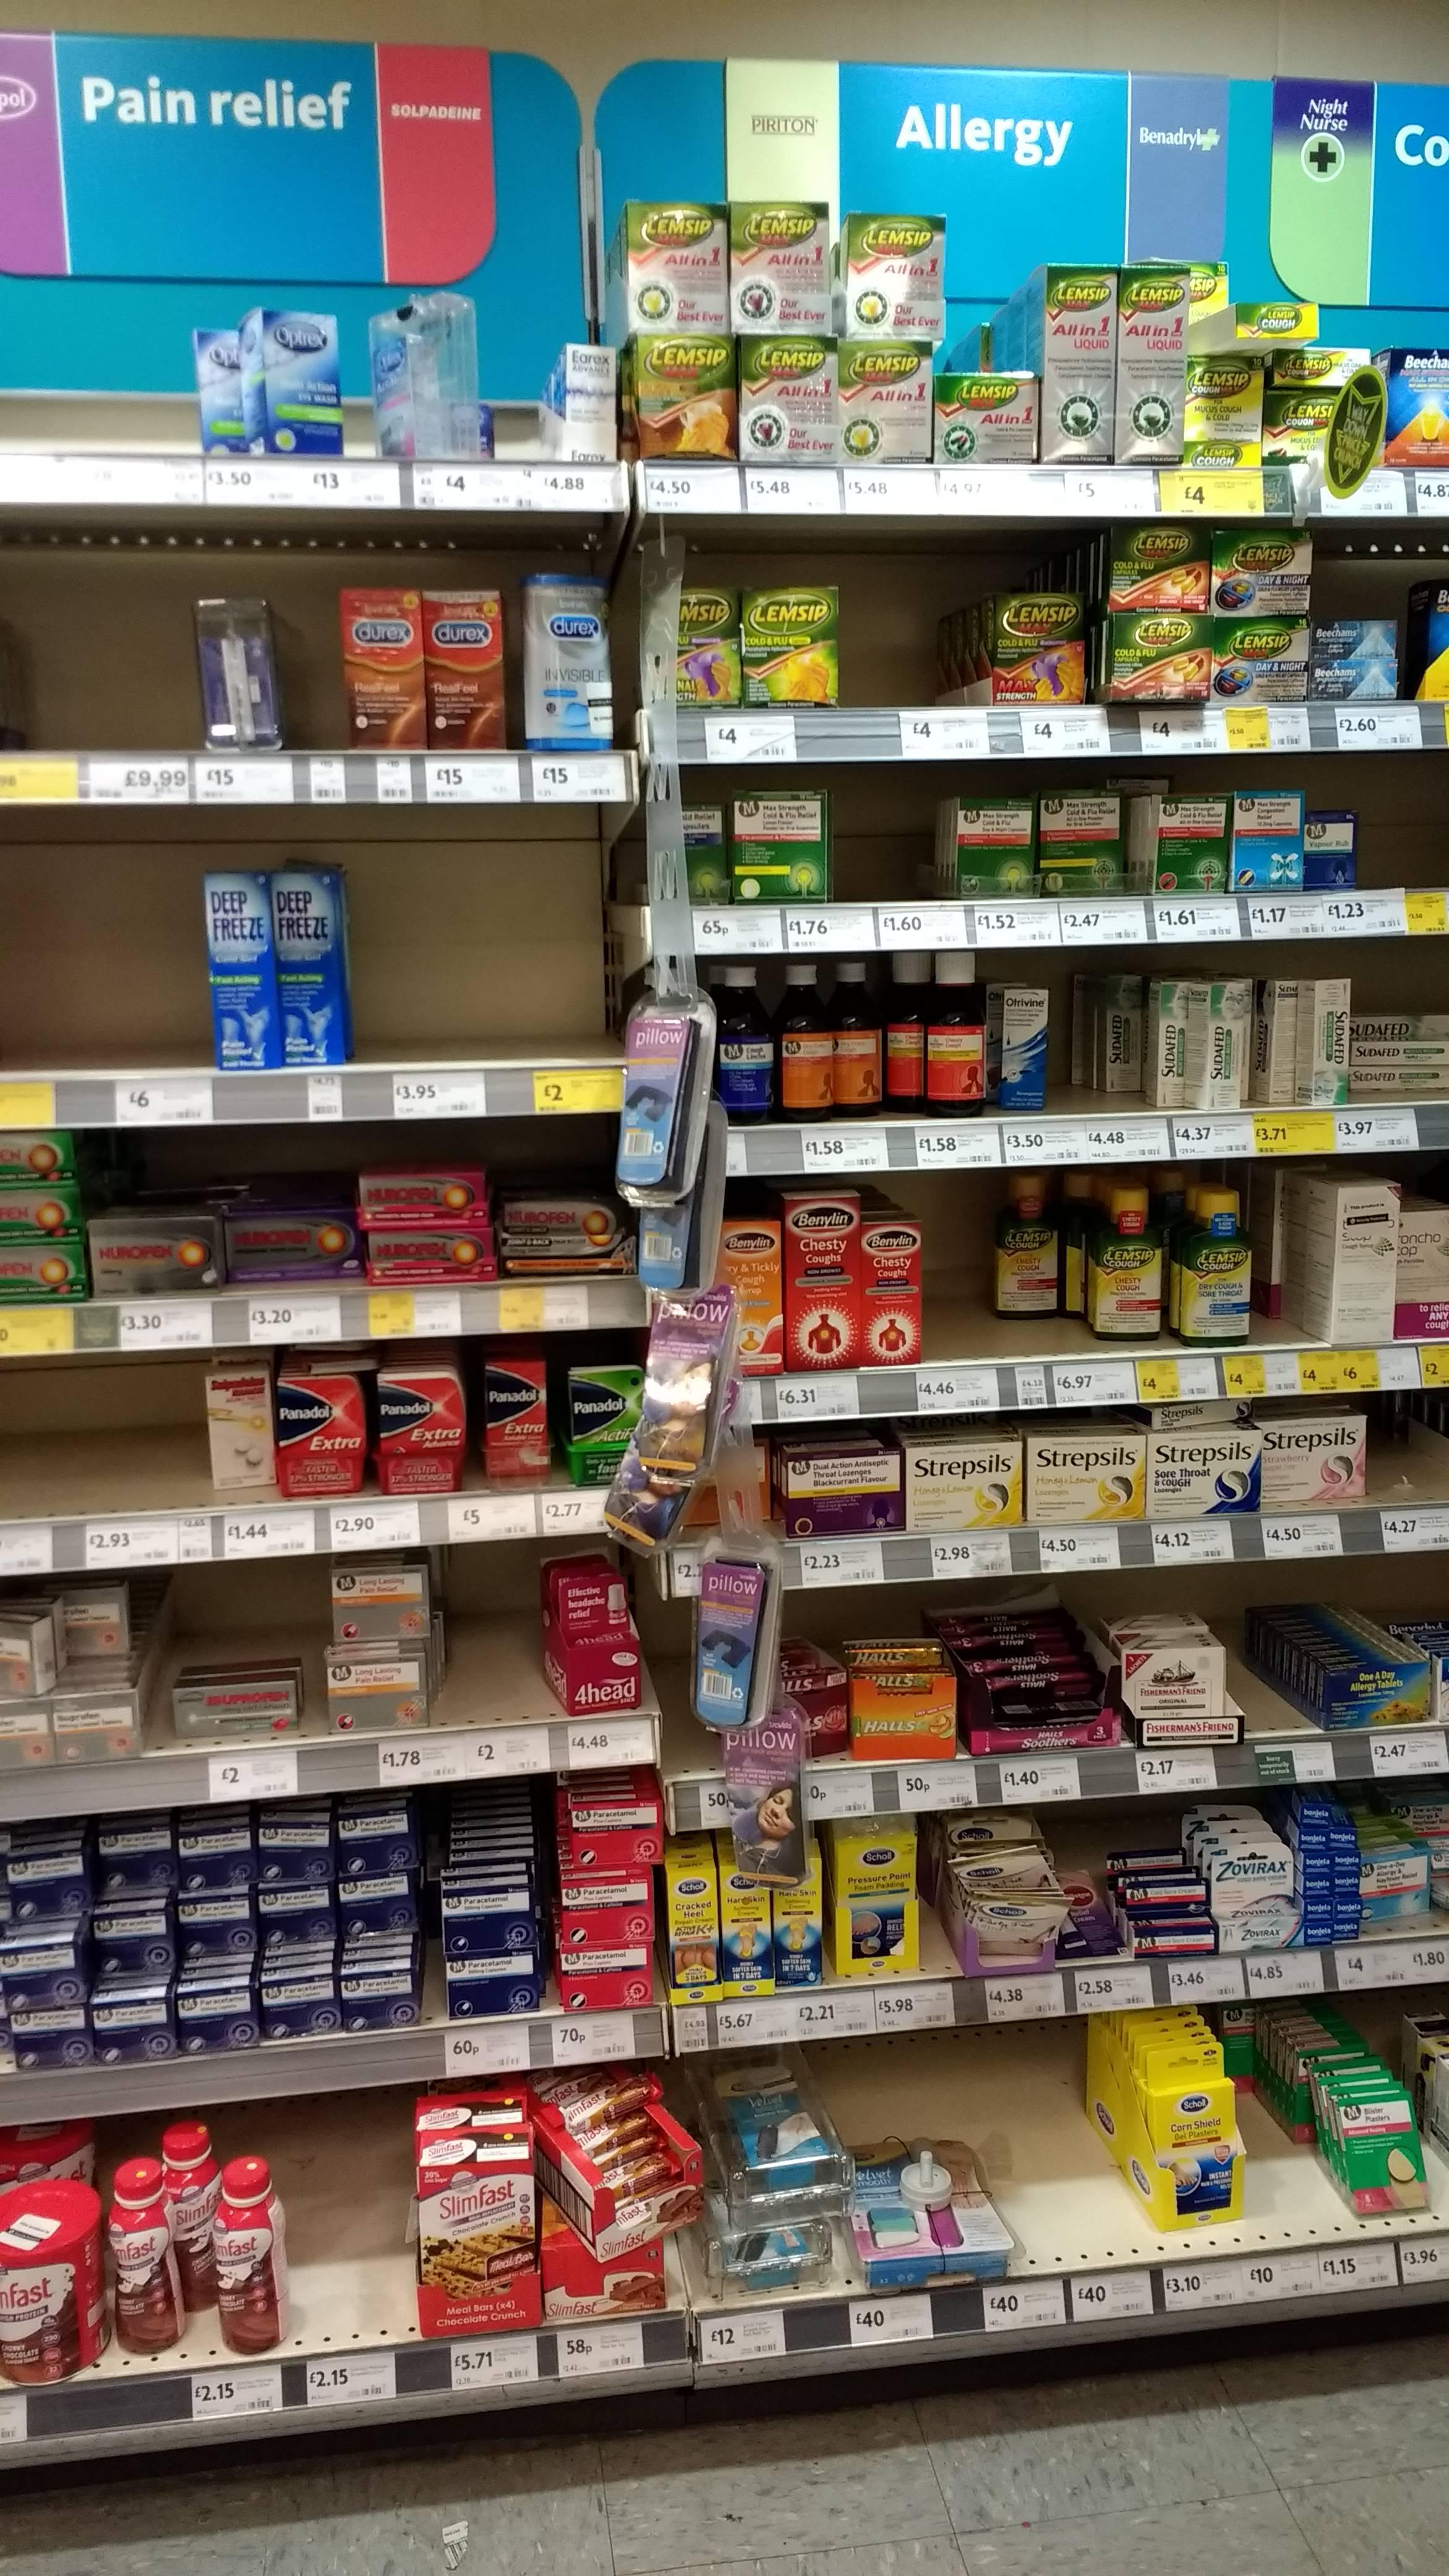misalignment: (531, 2059, 702, 2252), (835, 2141, 1019, 2281), (361, 297, 485, 465), (945, 1819, 1062, 1978), (1357, 1008, 1449, 1104), (1196, 292, 1322, 354), (1051, 1870, 1127, 1962)
